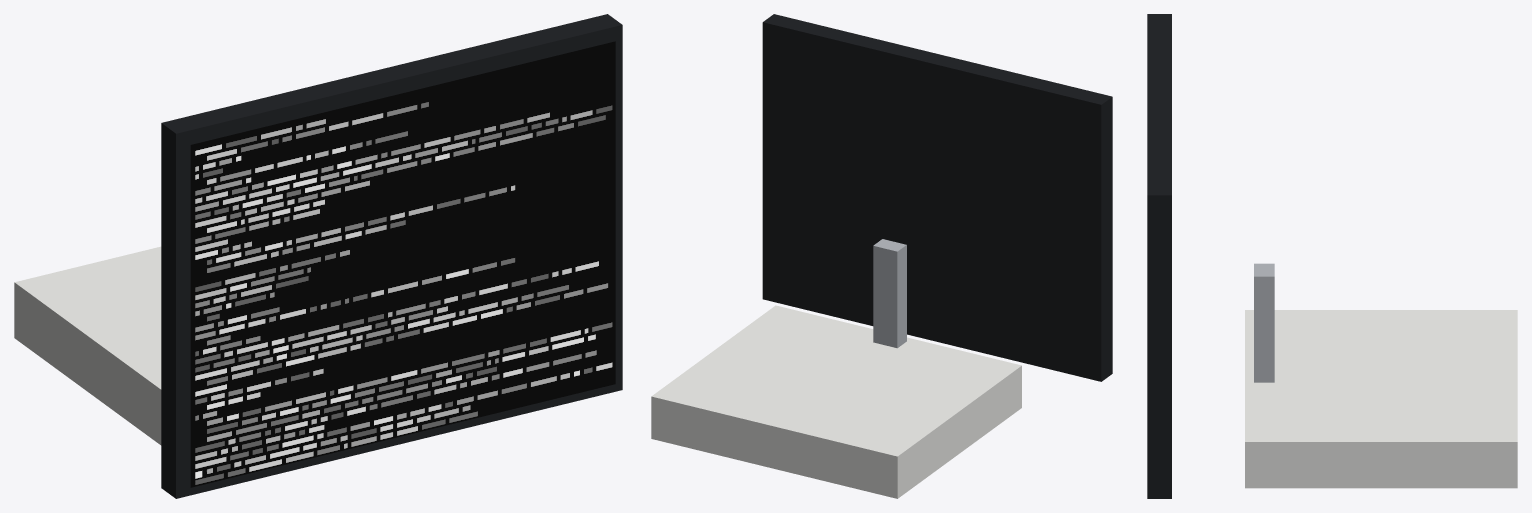
The model's file is Tech_CRT.gltf.
3 views of the same model, side by side, from view 1: azimuth 30°, elevation 25°; view 2: azimuth 150°, elevation 25°; view 3: azimuth 270°, elevation 25° (orthographic). The views are drawn at different scales.
Visible parts, largest first — view 1: Tech_CRT; view 2: Tech_CRT; view 3: Tech_CRT.
Part boxes in pixels (x1,y1,x2,y2): Tech_CRT: [14, 14, 622, 498]; Tech_CRT: [651, 14, 1112, 498]; Tech_CRT: [1147, 14, 1517, 498].
Size of the model in its own units: 0.418 by 0.342 by 0.367.
Materials: 4 (1 with a texture image).
